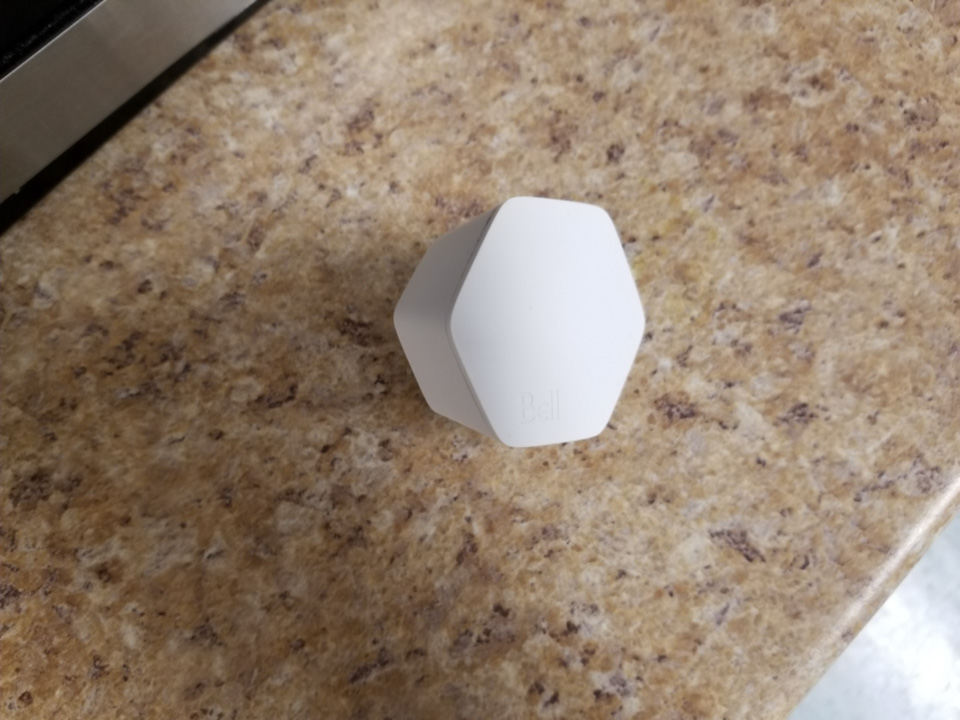pod: (382, 194, 653, 451)
